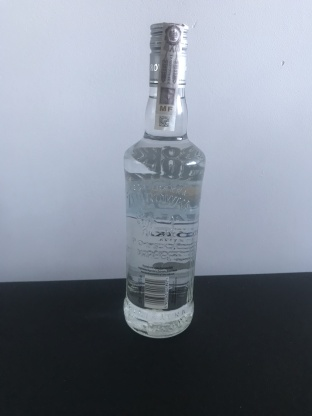nakretka: (146, 18, 190, 91)
